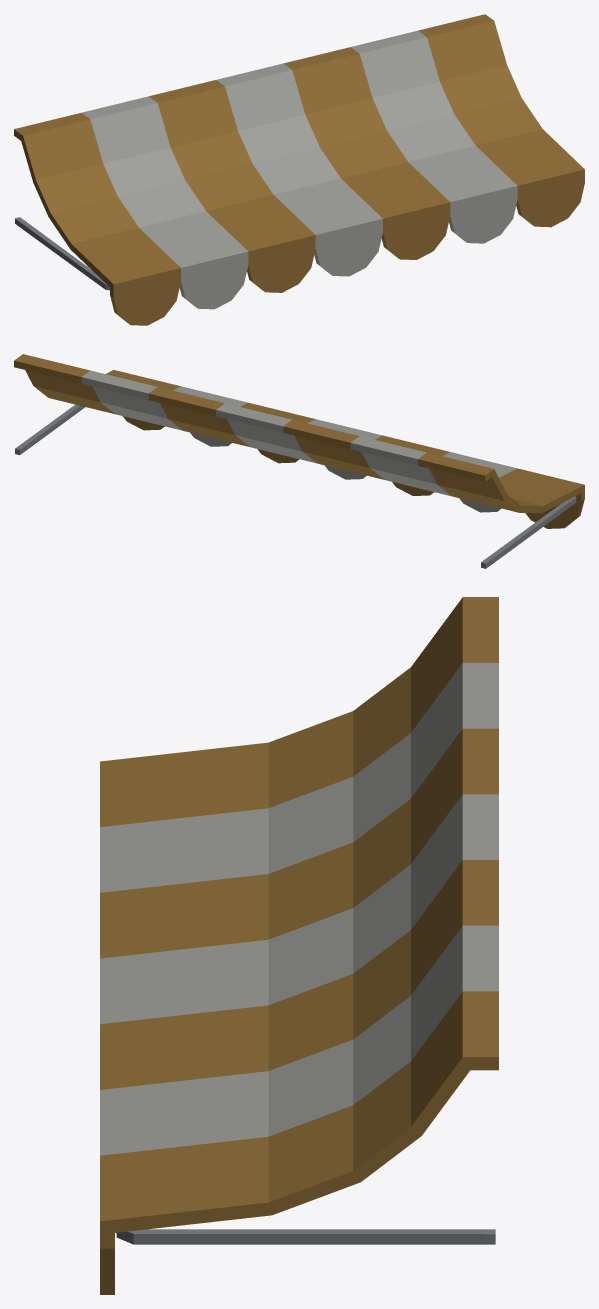
The model's file is SM_Props_Sunshade_03.fbx.
3 views of the same model, one above another, from view 1: azimuth 30°, elevation 25°; view 2: azimuth 150°, elevation 25°; view 3: azimuth 270°, elevation 25° (orthographic). The views are drawn at different scales.
Visible parts, largest first — view 1: SM_Props_Sunshade_03; view 2: SM_Props_Sunshade_03; view 3: SM_Props_Sunshade_03.
Part boxes in pixels (x1,y1,x2,y2): SM_Props_Sunshade_03: [14, 14, 584, 325]; SM_Props_Sunshade_03: [14, 354, 584, 568]; SM_Props_Sunshade_03: [100, 597, 498, 1294].
Bounding box in the file's own units: 300 × 80.19 × 110.
